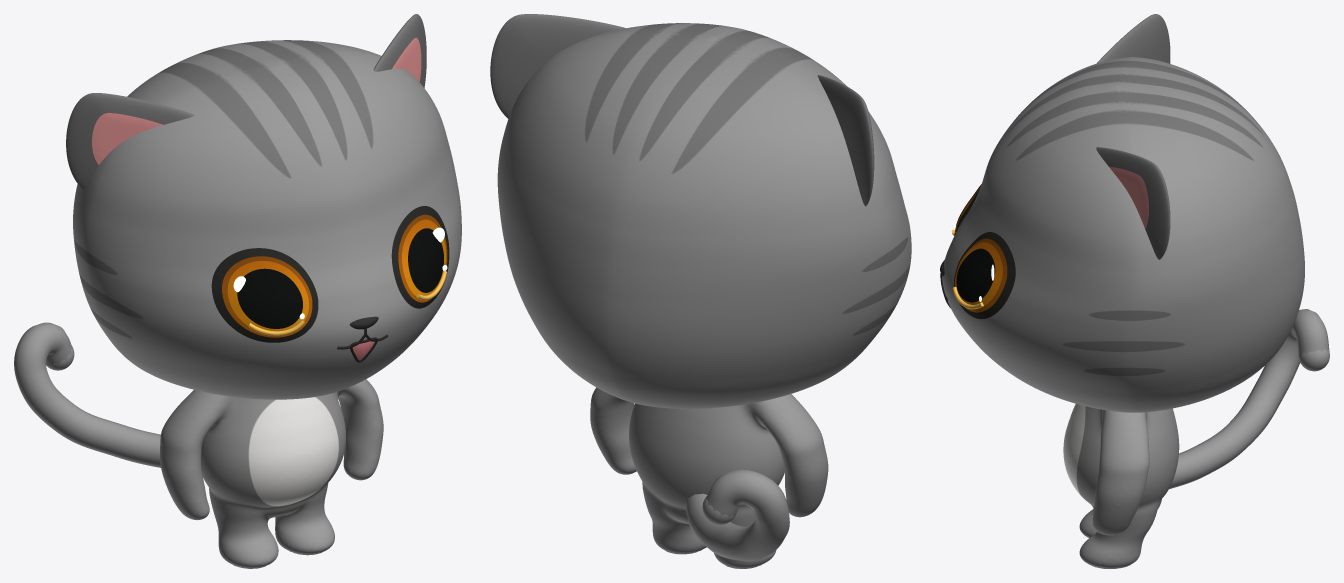
Rendered from CatGray_IP.glb.
The picture shows the model from 3 angles, left to right: view 1: azimuth 30°, elevation 25°; view 2: azimuth 150°, elevation 25°; view 3: azimuth 270°, elevation 25°; orthographic projection. The views are drawn at different scales.
Parts seen in each view (by area): view 1: Head • continuous shaped surface.001, Body • continuous bare skin and painted oval belly.001, Tail • continuous upright curl.001, Ear L • reference gray shell and smaller pink inset.001, Eye L • pupil.001, Eye L • charcoal socket.001, Ear R • reference gray shell and smaller pink inset.001, Eye R • pupil.001, Eye L • orange iris.001, Eye R • charcoal socket.001, Eye L • amber outer edge.001, Eye R • orange iris.001 (+1 smaller); view 2: Head • continuous shaped surface.001, Body • continuous bare skin and painted oval belly.001, Tail • continuous upright curl.001, Ear R • reference gray shell and smaller pink inset.001, Ear L • reference gray shell and smaller pink inset.001; view 3: Head • continuous shaped surface.001, Body • continuous bare skin and painted oval belly.001, Tail • continuous upright curl.001, Ear R • reference gray shell and smaller pink inset.001, Ear L • reference gray shell and smaller pink inset.001, Eye R • pupil.001, Eye R • charcoal socket.001, Eye R • orange iris.001, Eye R • amber outer edge.001, Tail • rounded tip.001.
Part boxes in pixels (left/top/right/bottom): Head • continuous shaped surface.001: left=73, top=40, right=461, bottom=399; Body • continuous bare skin and painted oval belly.001: left=160, top=379, right=383, bottom=568; Tail • continuous upright curl.001: left=14, top=322, right=160, bottom=467; Ear L • reference gray shell and smaller pink inset.001: left=66, top=93, right=194, bottom=189; Eye L • pupil.001: left=237, top=268, right=302, bottom=328; Eye L • charcoal socket.001: left=211, top=248, right=318, bottom=342; Ear R • reference gray shell and smaller pink inset.001: left=373, top=14, right=426, bottom=87; Eye R • pupil.001: left=408, top=228, right=443, bottom=292; Eye L • orange iris.001: left=227, top=261, right=308, bottom=331; Eye R • charcoal socket.001: left=391, top=206, right=449, bottom=308; Eye L • amber outer edge.001: left=222, top=256, right=312, bottom=337; Eye R • orange iris.001: left=402, top=219, right=446, bottom=296; Head • continuous shaped surface.001: left=497, top=23, right=911, bottom=408; Body • continuous bare skin and painted oval belly.001: left=590, top=387, right=828, bottom=568; Tail • continuous upright curl.001: left=685, top=469, right=789, bottom=561; Ear R • reference gray shell and smaller pink inset.001: left=490, top=14, right=625, bottom=118; Ear L • reference gray shell and smaller pink inset.001: left=817, top=75, right=874, bottom=206; Head • continuous shaped surface.001: left=942, top=57, right=1304, bottom=412; Body • continuous bare skin and painted oval belly.001: left=1063, top=404, right=1179, bottom=568; Tail • continuous upright curl.001: left=1169, top=309, right=1329, bottom=489; Ear R • reference gray shell and smaller pink inset.001: left=1096, top=147, right=1170, bottom=259; Ear L • reference gray shell and smaller pink inset.001: left=1097, top=14, right=1170, bottom=63; Eye R • pupil.001: left=956, top=248, right=995, bottom=302; Eye R • charcoal socket.001: left=954, top=232, right=1015, bottom=319; Eye R • orange iris.001: left=955, top=242, right=1002, bottom=306; Eye R • amber outer edge.001: left=954, top=238, right=1007, bottom=312; Tail • rounded tip.001: left=1298, top=350, right=1329, bottom=371.
Bounding box in the file's own units: 3.54 × 4.57 × 3.49.
13 materials, 2 textured.
